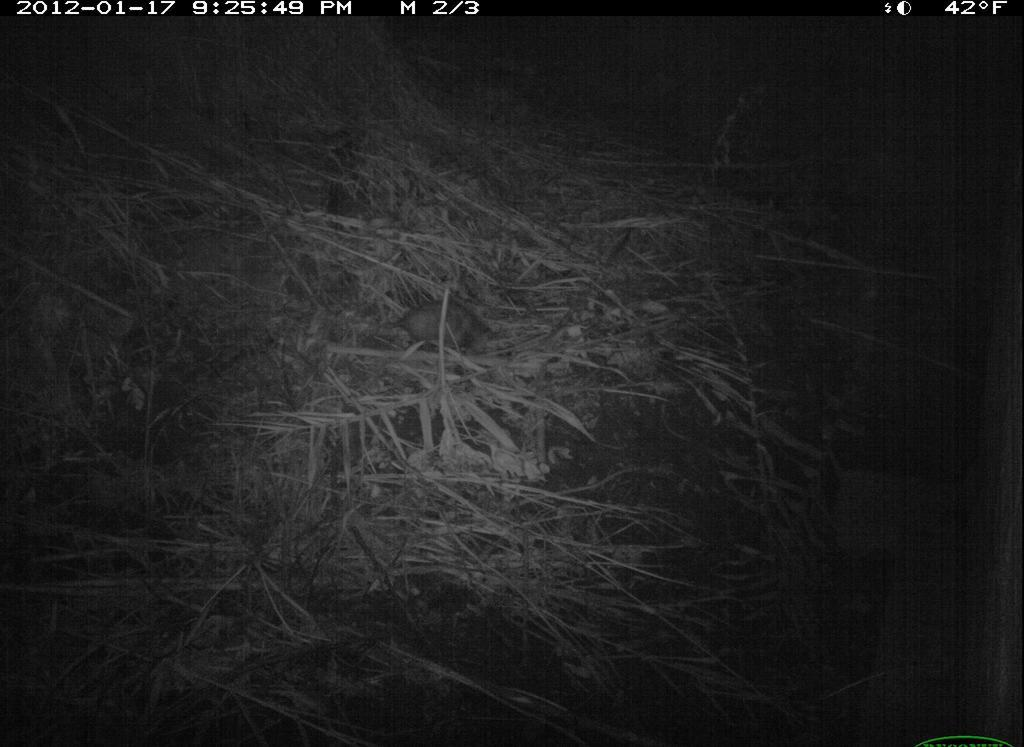opossum: (379, 300, 496, 356)
